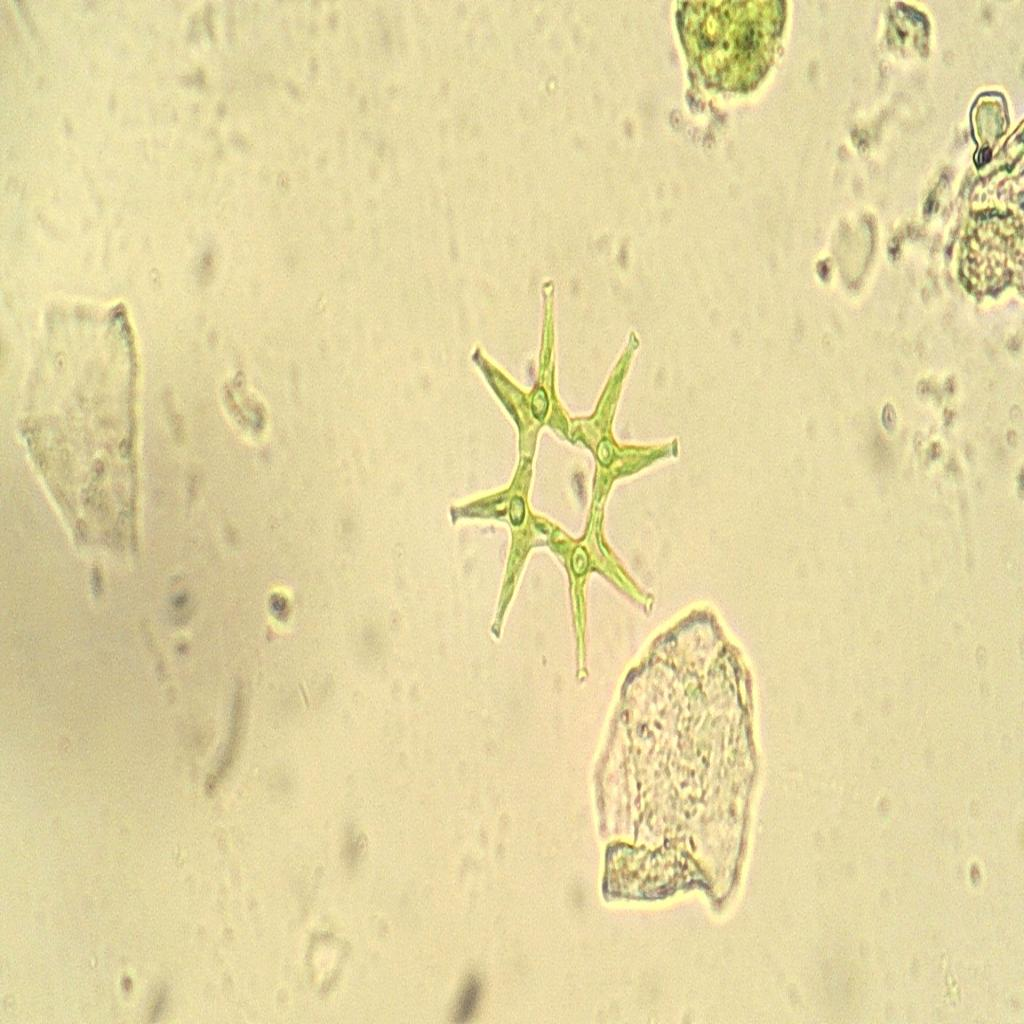Pediastrum_75O: (442, 257, 684, 710)
